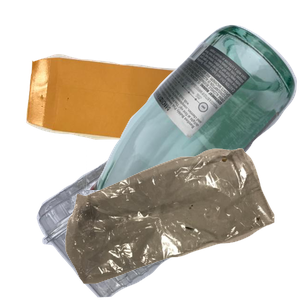glass: (86, 22, 300, 202)
paper: (23, 51, 206, 189)
plastic: (34, 130, 246, 300)
trash: (63, 145, 300, 300)
